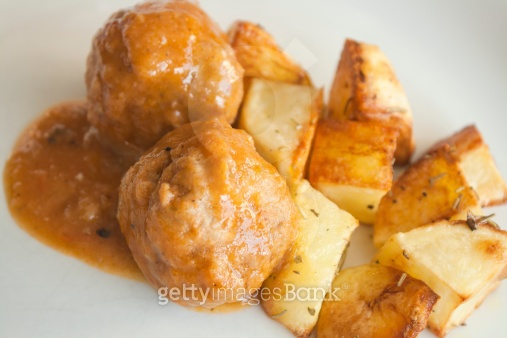boiled potatoes: (366, 221, 507, 334), (377, 121, 507, 232), (330, 35, 423, 172), (305, 106, 404, 220), (313, 259, 428, 338)
meatballs: (120, 129, 295, 311), (83, 4, 240, 144)
